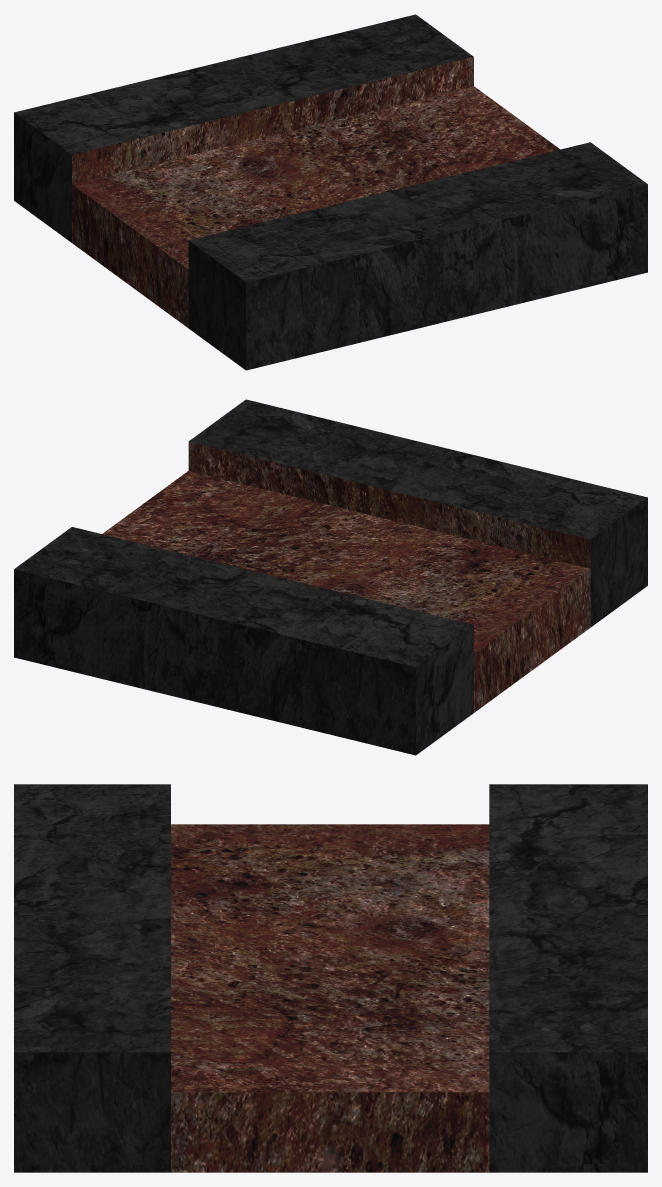
The model's file is EnemyPath41.fbx.
3 renders of one model, top to bottom at view 1: azimuth 30°, elevation 25°; view 2: azimuth 150°, elevation 25°; view 3: azimuth 270°, elevation 25°, orthographic. The views are drawn at different scales.
Parts seen in each view (by area): view 1: EnemyPath41; view 2: EnemyPath41; view 3: EnemyPath41.
Boxes of the visible parts, x1=… form: EnemyPath41: x1=14, y1=14, x2=647, y2=370; EnemyPath41: x1=14, y1=399, x2=647, y2=755; EnemyPath41: x1=14, y1=784, x2=647, y2=1172.
Bounding box in the file's own units: 100 × 20.97 × 100.
2 materials, 2 textured.
